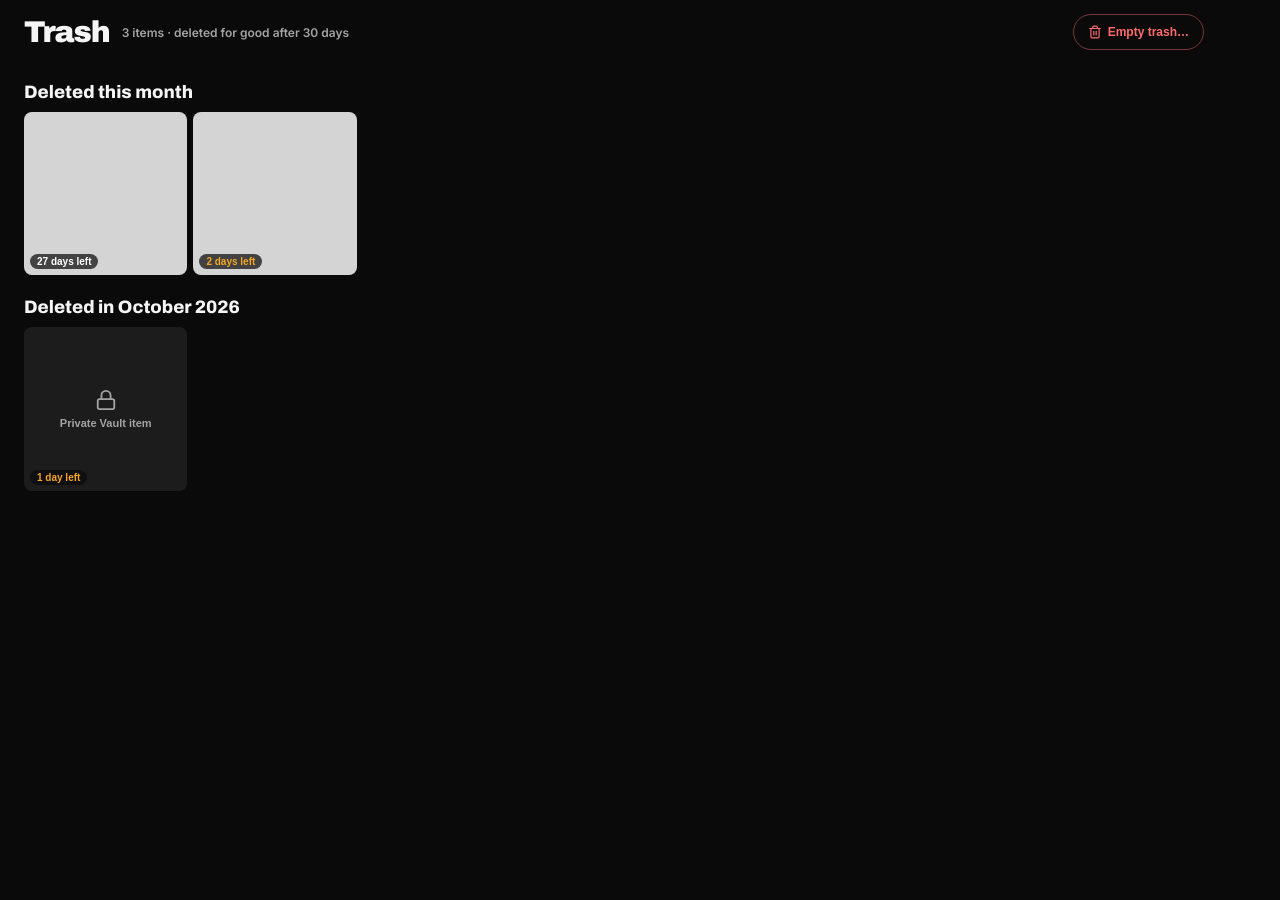
Scenario: TrashView › asks before deleting forever, and Cancel deletes nothing
Click the button with aria-label "Trip day 2, 2 days left": (275, 194) top-left (193, 112), bottom-right (357, 275)
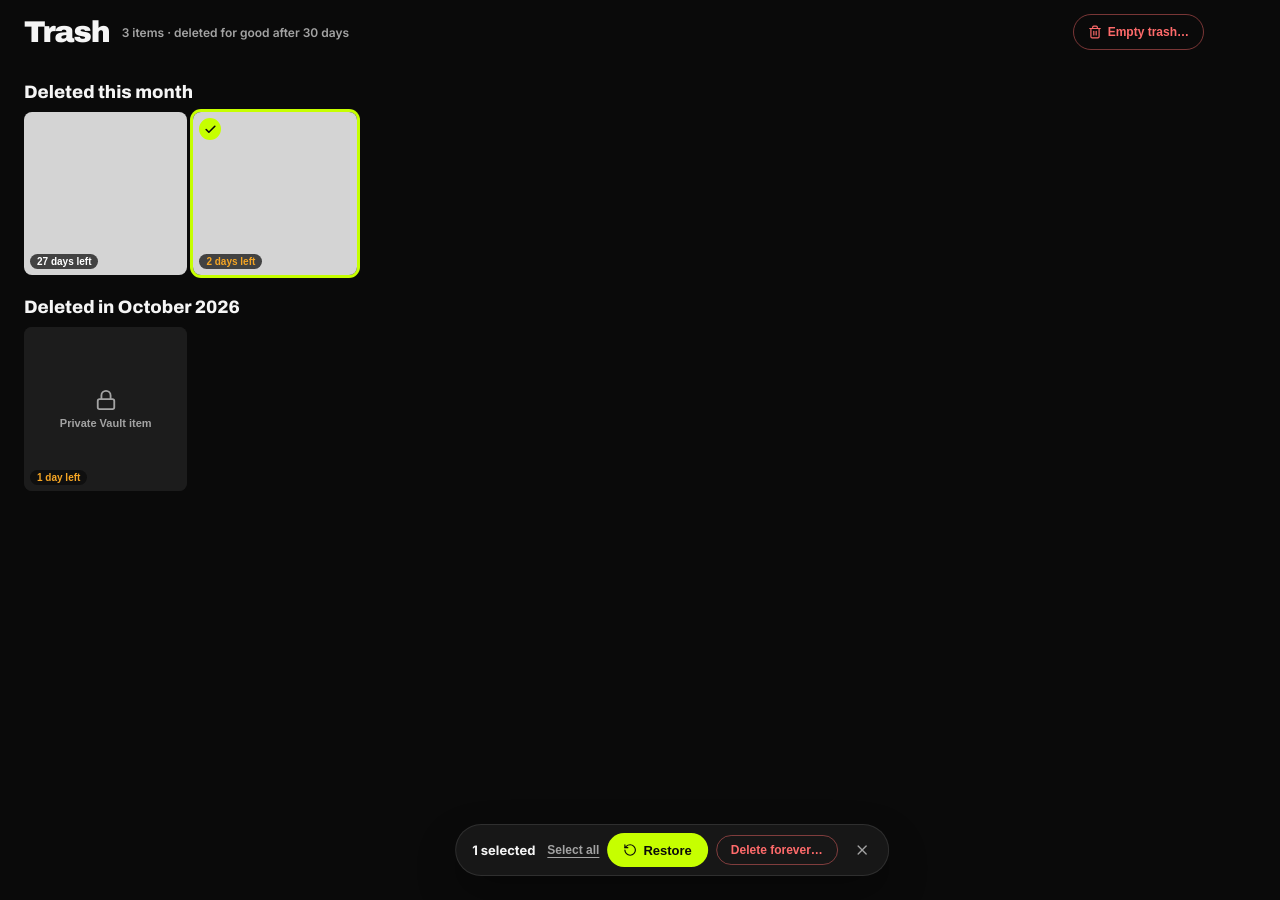
Click the button "Delete forever…": (777, 850) top-left (716, 835), bottom-right (838, 865)
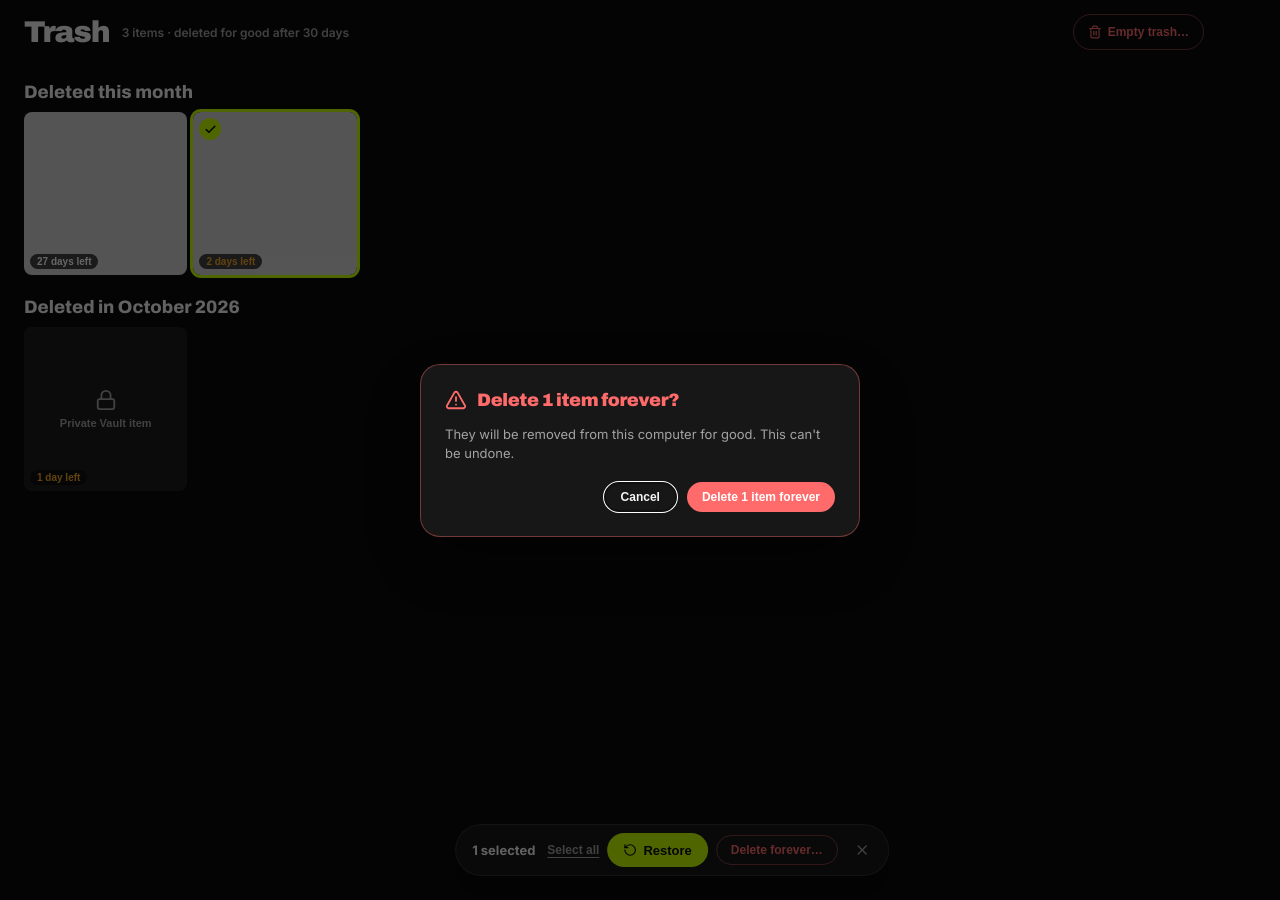
Click the button "Cancel": (640, 496) top-left (604, 482), bottom-right (677, 512)
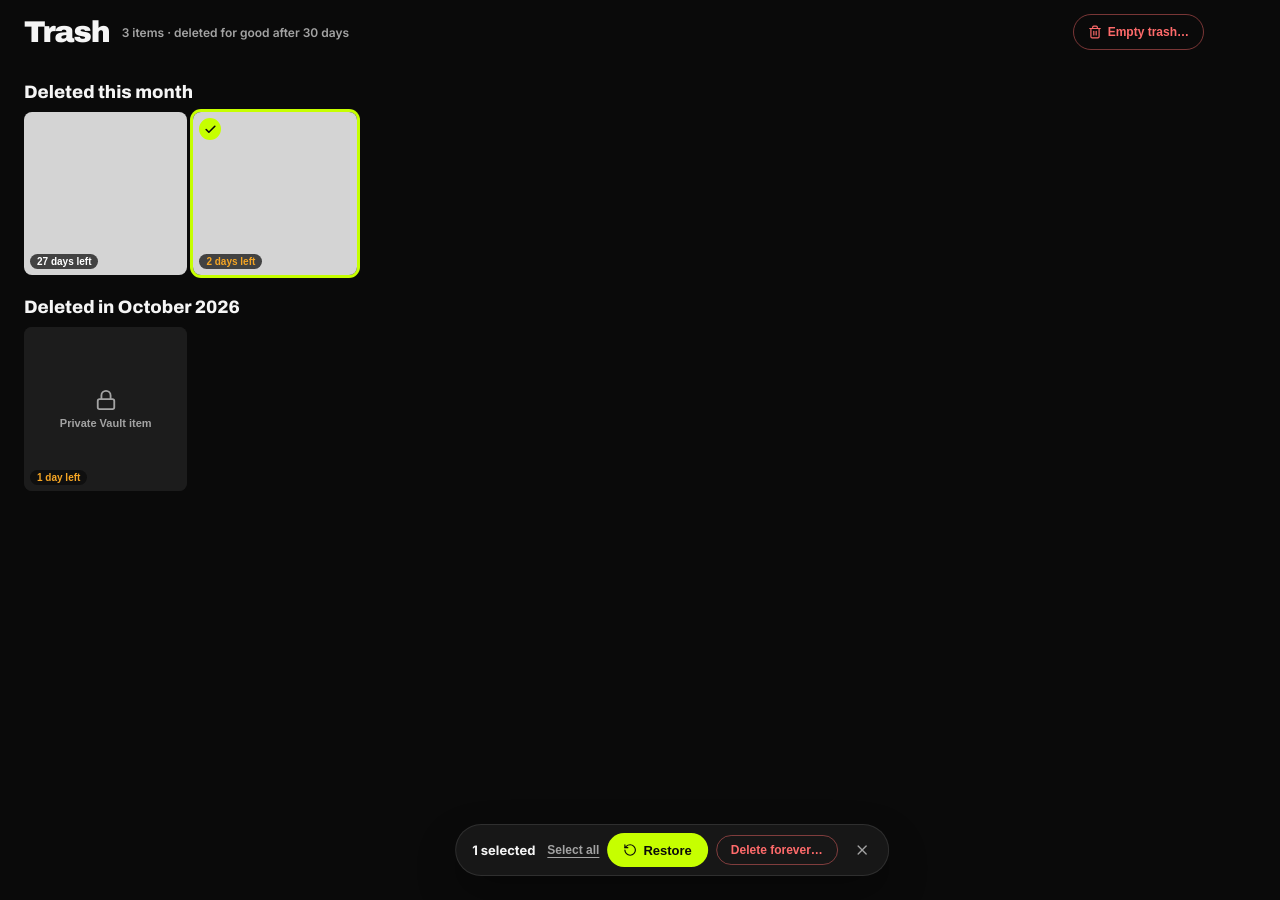
Click the button "Delete forever…": (777, 850) top-left (716, 835), bottom-right (838, 865)
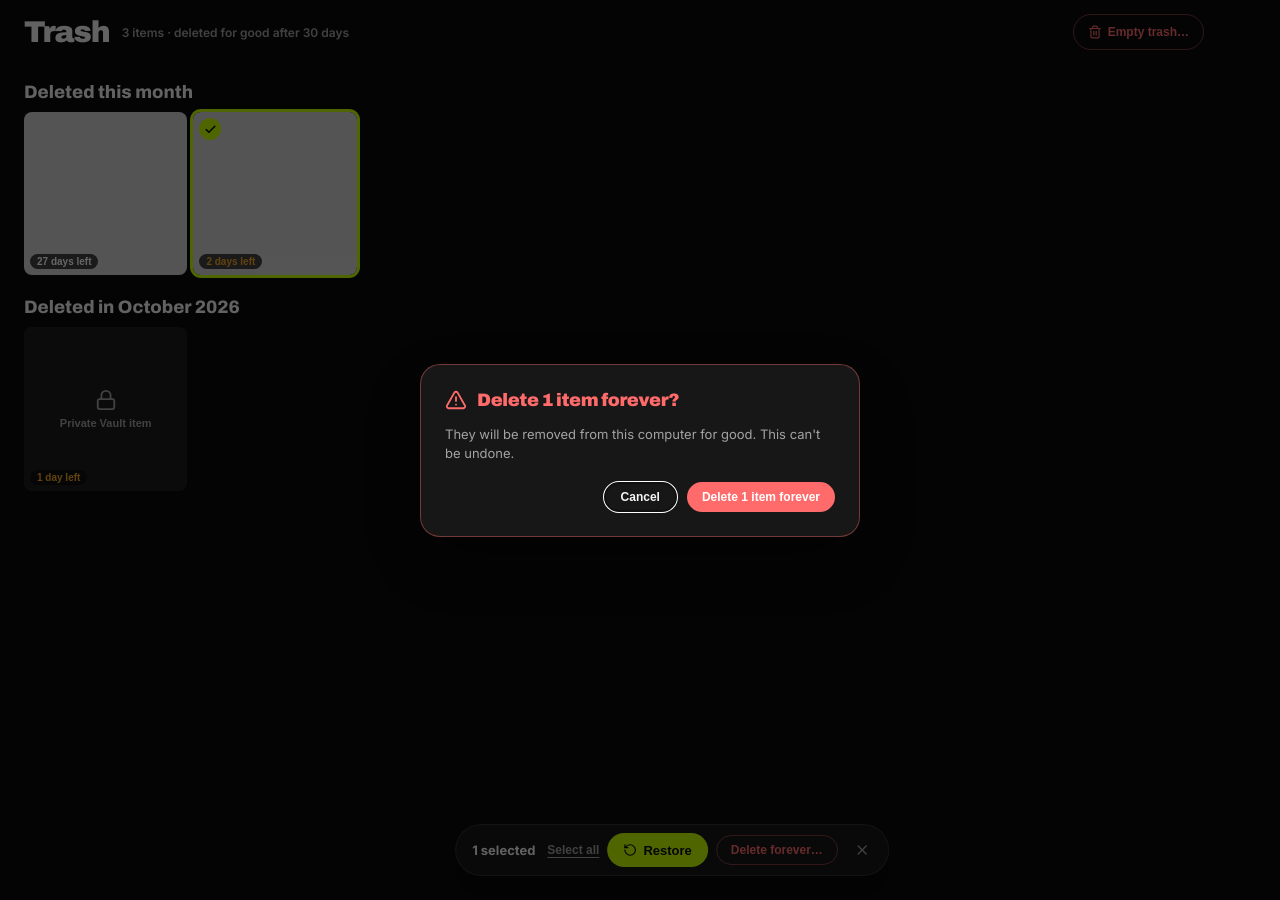
Click the button "Delete 1 item forever": (761, 496) top-left (687, 482), bottom-right (835, 512)
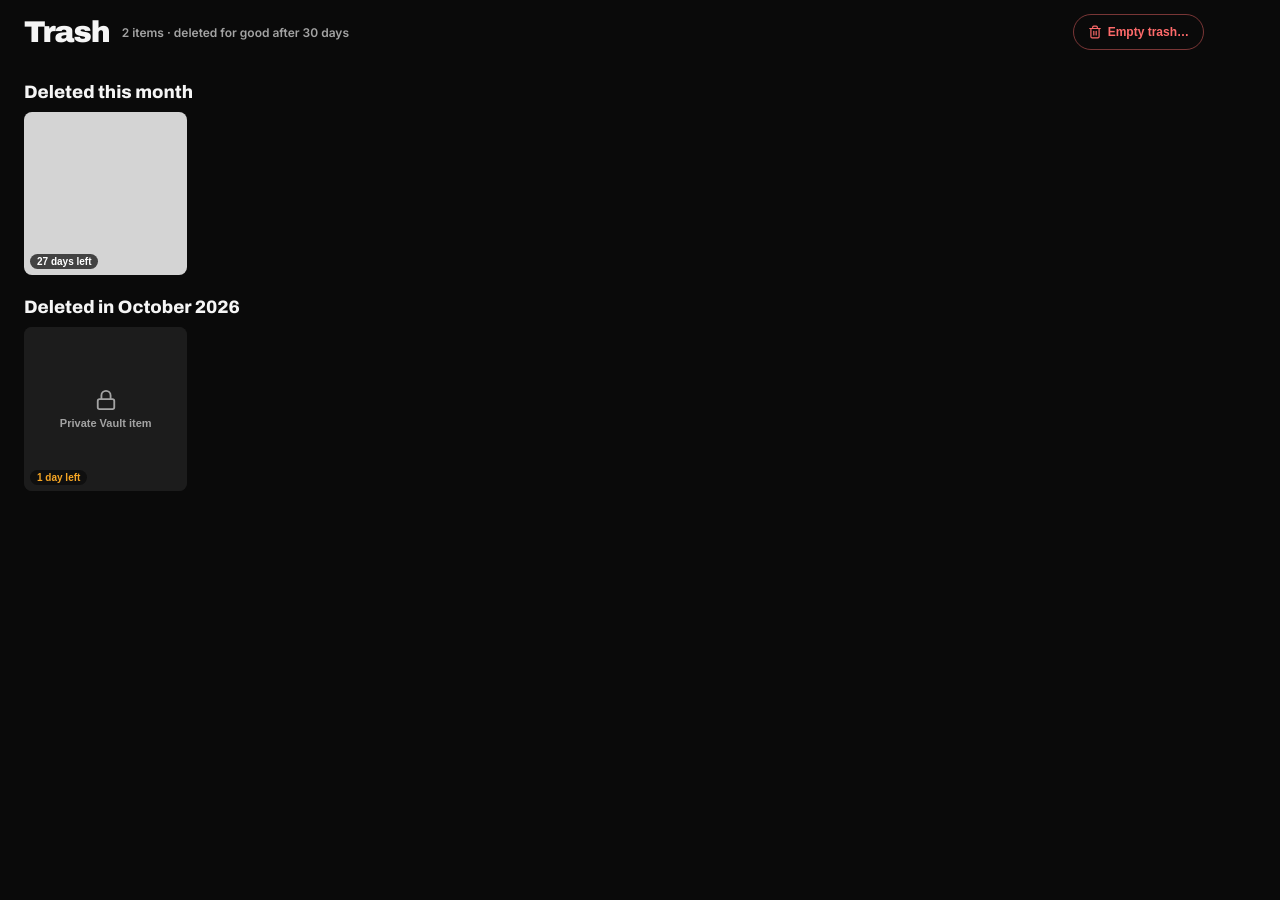
Expected: the dialog is gone
